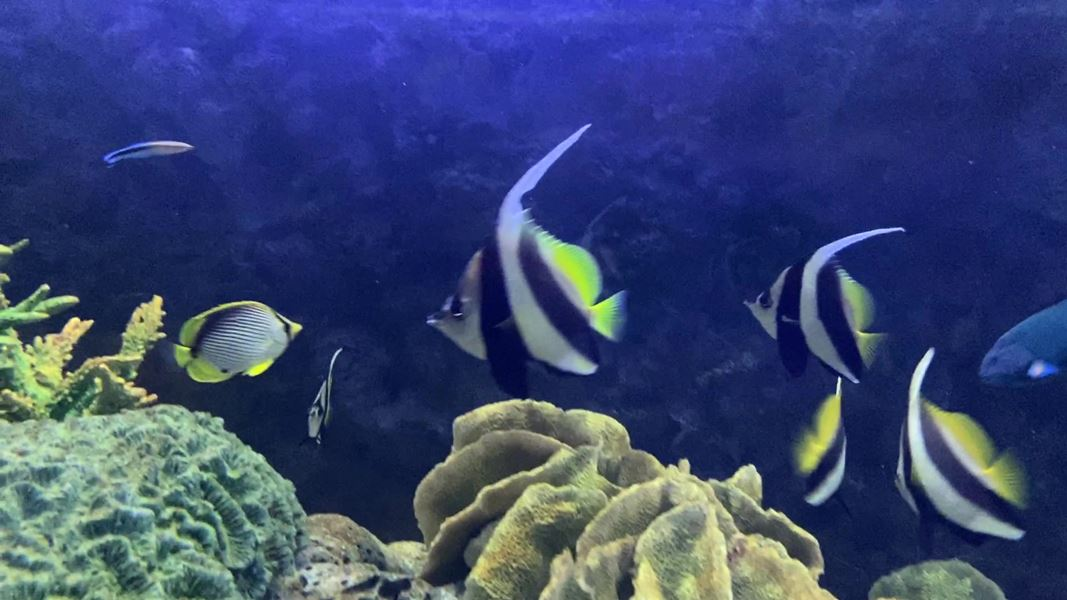Bluesteak cleaner wrasse: (94, 133, 195, 169)
